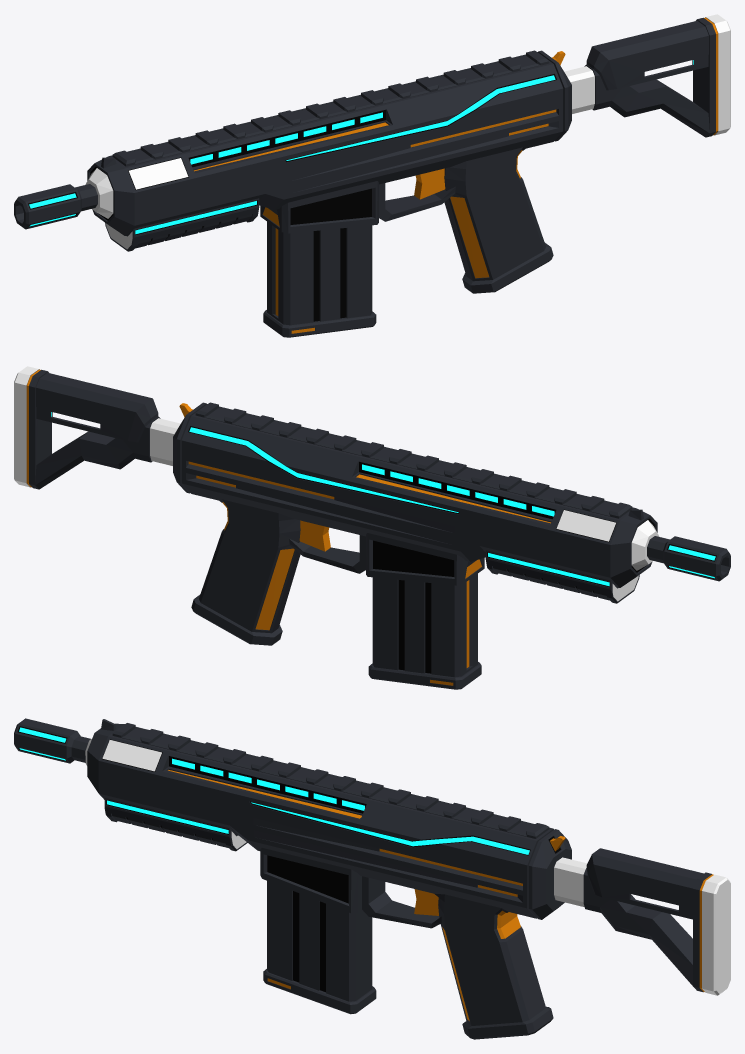
The model's file is SM_Assault_Rifle.fbx.
3 views of the same model, one above another, from view 1: azimuth 30°, elevation 25°; view 2: azimuth 150°, elevation 25°; view 3: azimuth 330°, elevation 25° (orthographic).
Parts seen in each view (by area): view 1: SM_Assault_Rifle, SM_Assault_Rifle_Magazine; view 2: SM_Assault_Rifle, SM_Assault_Rifle_Magazine; view 3: SM_Assault_Rifle, SM_Assault_Rifle_Magazine.
Boxes of the visible parts, <box> form: SM_Assault_Rifle: <box>14,14,730,293</box>; SM_Assault_Rifle_Magazine: <box>263,222,376,337</box>; SM_Assault_Rifle: <box>14,366,730,645</box>; SM_Assault_Rifle_Magazine: <box>368,573,481,689</box>; SM_Assault_Rifle: <box>14,718,730,1039</box>; SM_Assault_Rifle_Magazine: <box>263,881,376,1014</box>.
Bounding box in the file's own units: 100 × 30.5 × 8.89.
